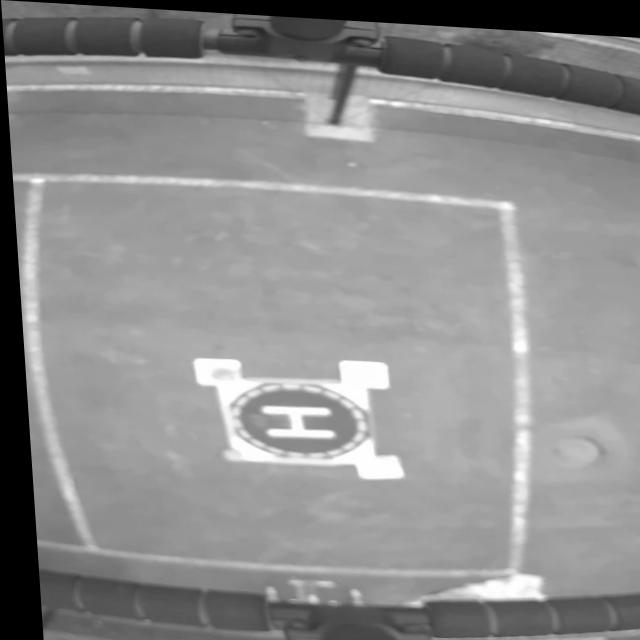Helipad: (254, 403, 327, 435)
